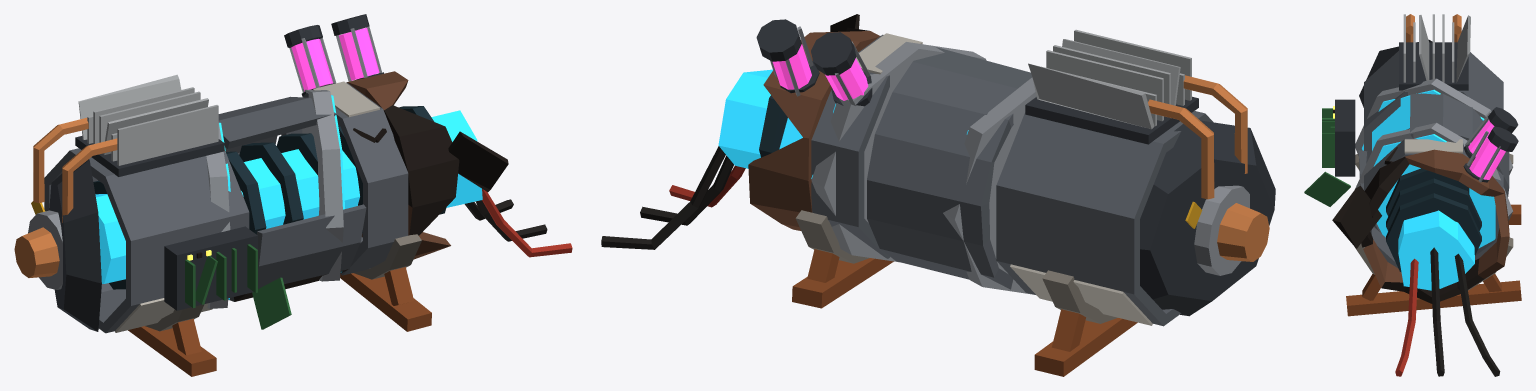
Rendered from warp_core.glb.
The picture shows the model from 3 angles, left to right: view 1: azimuth 30°, elevation 25°; view 2: azimuth 150°, elevation 25°; view 3: azimuth 270°, elevation 25°; orthographic projection. The views are drawn at different scales.
Visible parts, largest first — view 1: warp_core; view 2: warp_core; view 3: warp_core.
Boxes of the visible parts, x1=… form: warp_core: x1=14, y1=14, x2=572, y2=376; warp_core: x1=601, y1=14, x2=1275, y2=376; warp_core: x1=1304, y1=14, x2=1521, y2=376.
Size of the model in its own units: 1.68 by 0.738 by 0.7477.
